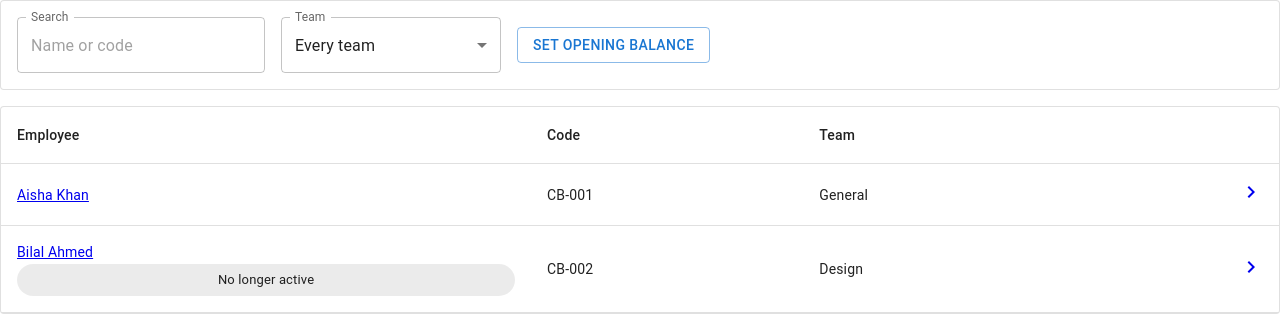
it: LeavePersonPicker › narrows the list as the reader types
The image size is (1280, 331).
Type "bilal" into the field labelled "Search" at (141, 45), box [17,17,265,73]
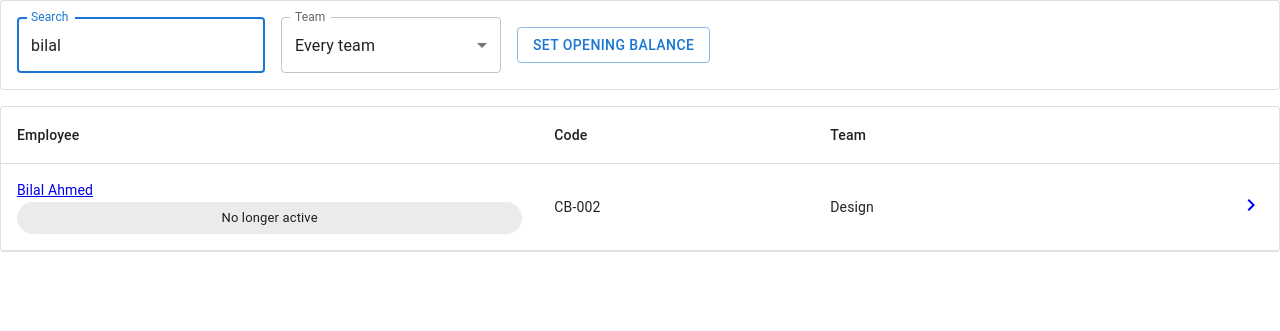
Expected: the link "Bilal Ahmed" is shown, [17,182,93,198]
Now the link "Aisha Khan" is gone
